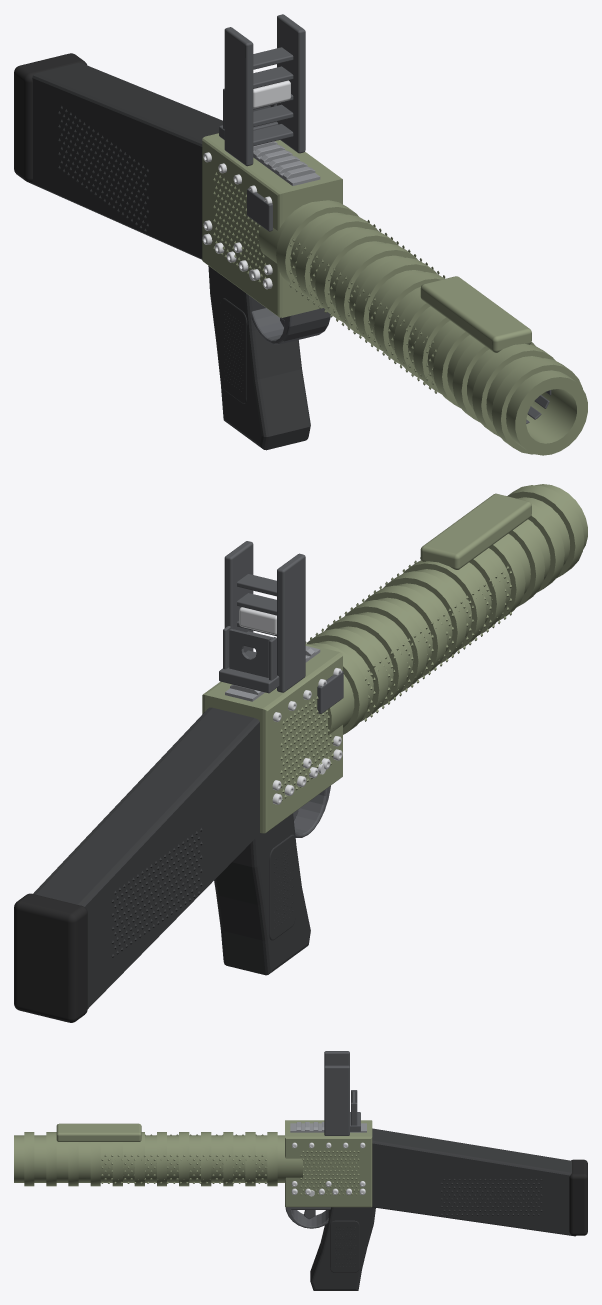
File: mega-weapon-pack-break-grenade-launcher-d5af610d__33353.glb
3 views of the same model, one above another, from view 1: azimuth 30°, elevation 25°; view 2: azimuth 150°, elevation 25°; view 3: azimuth 270°, elevation 25° (orthographic). The views are drawn at different scales.
Parts seen in each view (by area): view 1: break-grenade-launcher, action/paintOlive; view 2: break-grenade-launcher, action/paintOlive; view 3: break-grenade-launcher, action/paintOlive.
Boxes of the visible parts, x1=… form: break-grenade-launcher: x1=14, y1=14, x2=342, y2=450; action/paintOlive: x1=259, y1=200, x2=587, y2=455; break-grenade-launcher: x1=14, y1=541, x2=343, y2=1022; action/paintOlive: x1=305, y1=484, x2=587, y2=735; break-grenade-launcher: x1=285, y1=1051, x2=587, y2=1290; action/paintOlive: x1=14, y1=1123, x2=302, y2=1186.
Size of the model in its own units: 0.064 by 0.2935 by 0.675.
